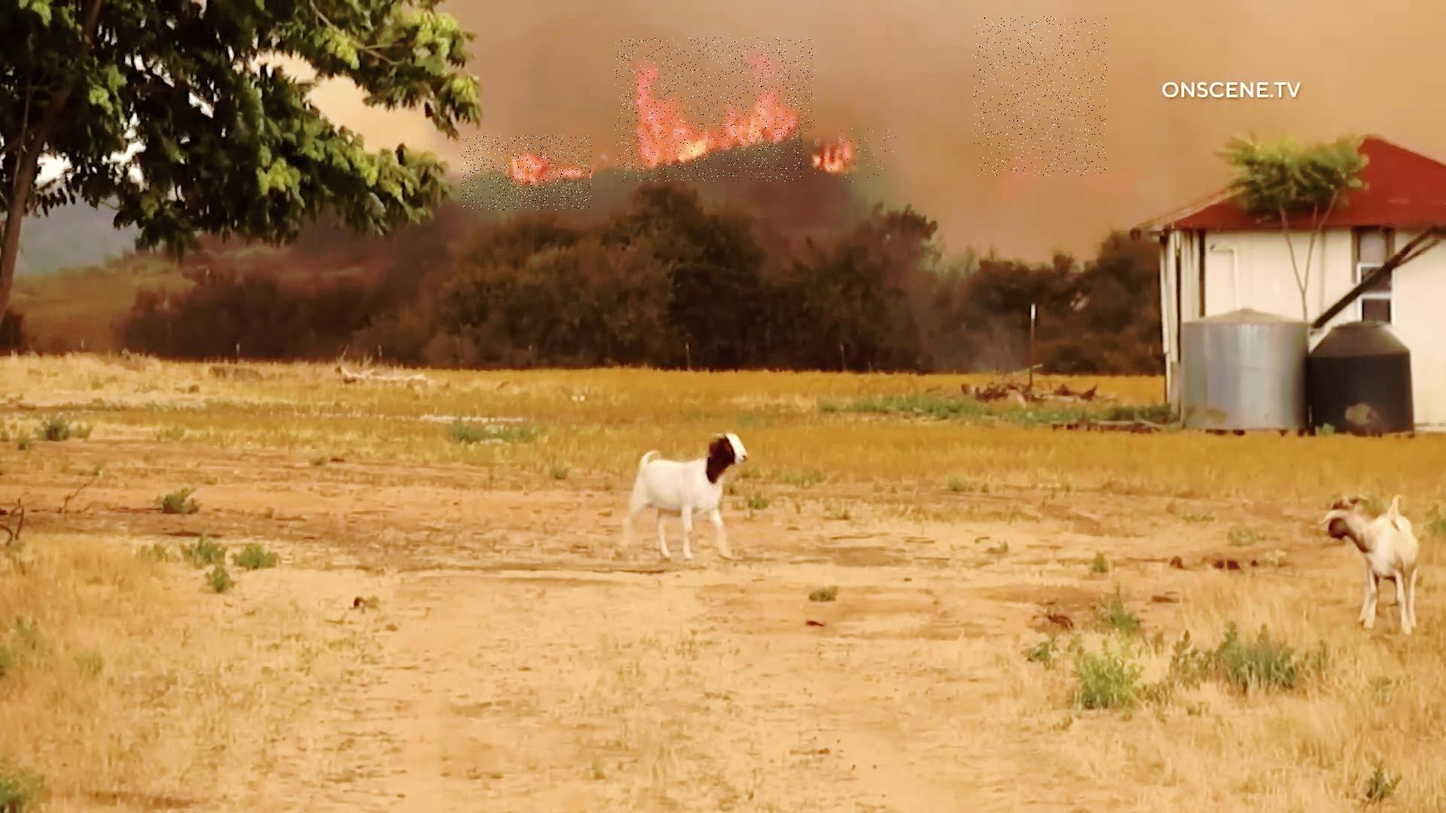fire: (616, 38, 816, 181), (462, 136, 591, 210), (804, 128, 898, 183)
smoke: (974, 17, 1108, 177)
